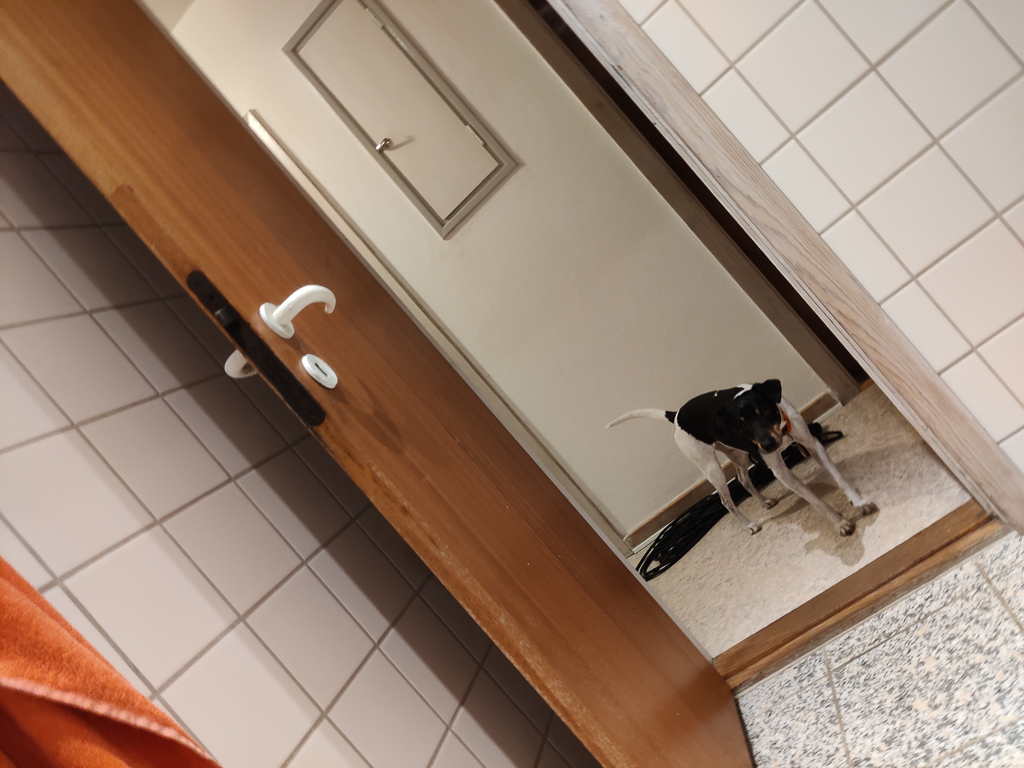Dog: (598, 368, 887, 548)
